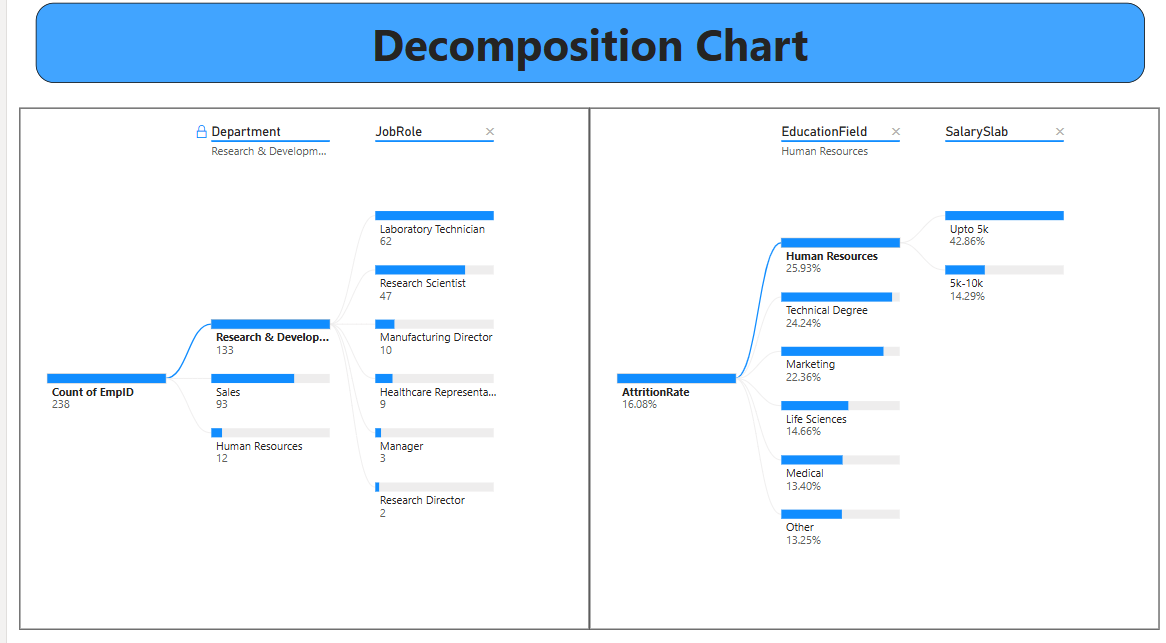

This screenshot's page, from the dashboard's own definition file:
{"tool":"powerbi","page":{"name":"Decomposition chart","canvas":[1280,720],"ordinal":9},"visuals":[{"type":"textbox","box":[31.4,15.7,1217.3,88.4],"z":0},{"type":"decompositionTreeVisual","fields":{"Analyze":["CountNonNull(HR_Analytics.EmpID)"],"ExplainBy":["HR_Analytics.Department","HR_Analytics.JobRole"]},"box":[14.3,129.7,625.7,573],"z":1000},{"type":"decompositionTreeVisual","fields":{"ExplainBy":["HR_Analytics.EducationField","HR_Analytics.SalarySlab"],"Analyze":["HR_Analytics.AttritionRate"]},"box":[640,129.7,625.7,573],"z":2000}]}

Visuals, with their boxes in screenshot pixels (x1, y1, x2, y2), scaled from the page's 1280x720 canvas onto the 1166x643 screenshot:
textbox: region(29, 14, 1137, 93)
decompositionTreeVisual - CountNonNull(HR_Analytics.EmpID) x HR_Analytics.Department: region(13, 116, 583, 628)
decompositionTreeVisual - HR_Analytics.EducationField x HR_Analytics.SalarySlab: region(583, 116, 1153, 628)
